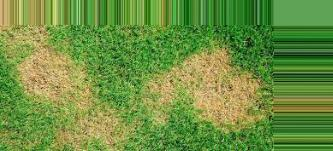patch: (199, 69, 252, 113), (44, 60, 72, 82), (96, 116, 115, 146)
